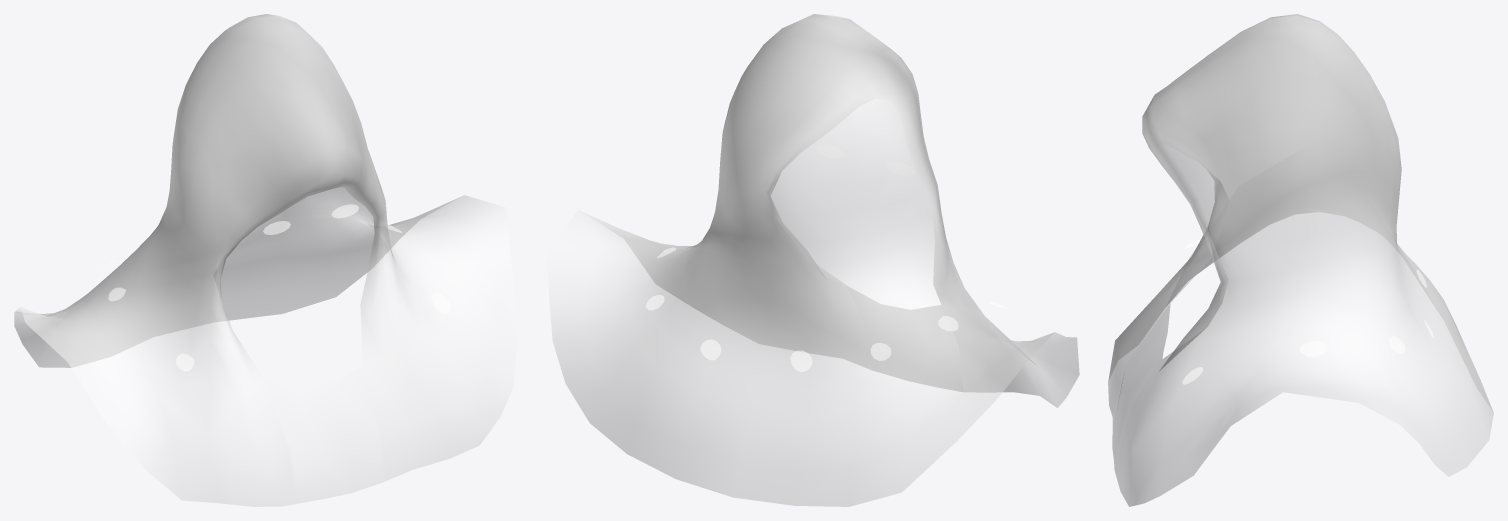
Rendered from Reaper-White-Head.glb.
3 views of the same model, side by side, from view 1: azimuth 30°, elevation 25°; view 2: azimuth 150°, elevation 25°; view 3: azimuth 270°, elevation 25° (orthographic). The views are drawn at different scales.
Visible parts, largest first — view 1: Reaper-White-Head; view 2: Reaper-White-Head; view 3: Reaper-White-Head.
Part boxes in pixels (<box>): Reaper-White-Head: <box>14,14,517,506</box>; Reaper-White-Head: <box>546,14,1079,506</box>; Reaper-White-Head: <box>1108,14,1493,506</box>.
Size of what is drawn, in the model's own units: 0.8217 by 0.6787 by 0.5547.
1 material, 1 textured.
